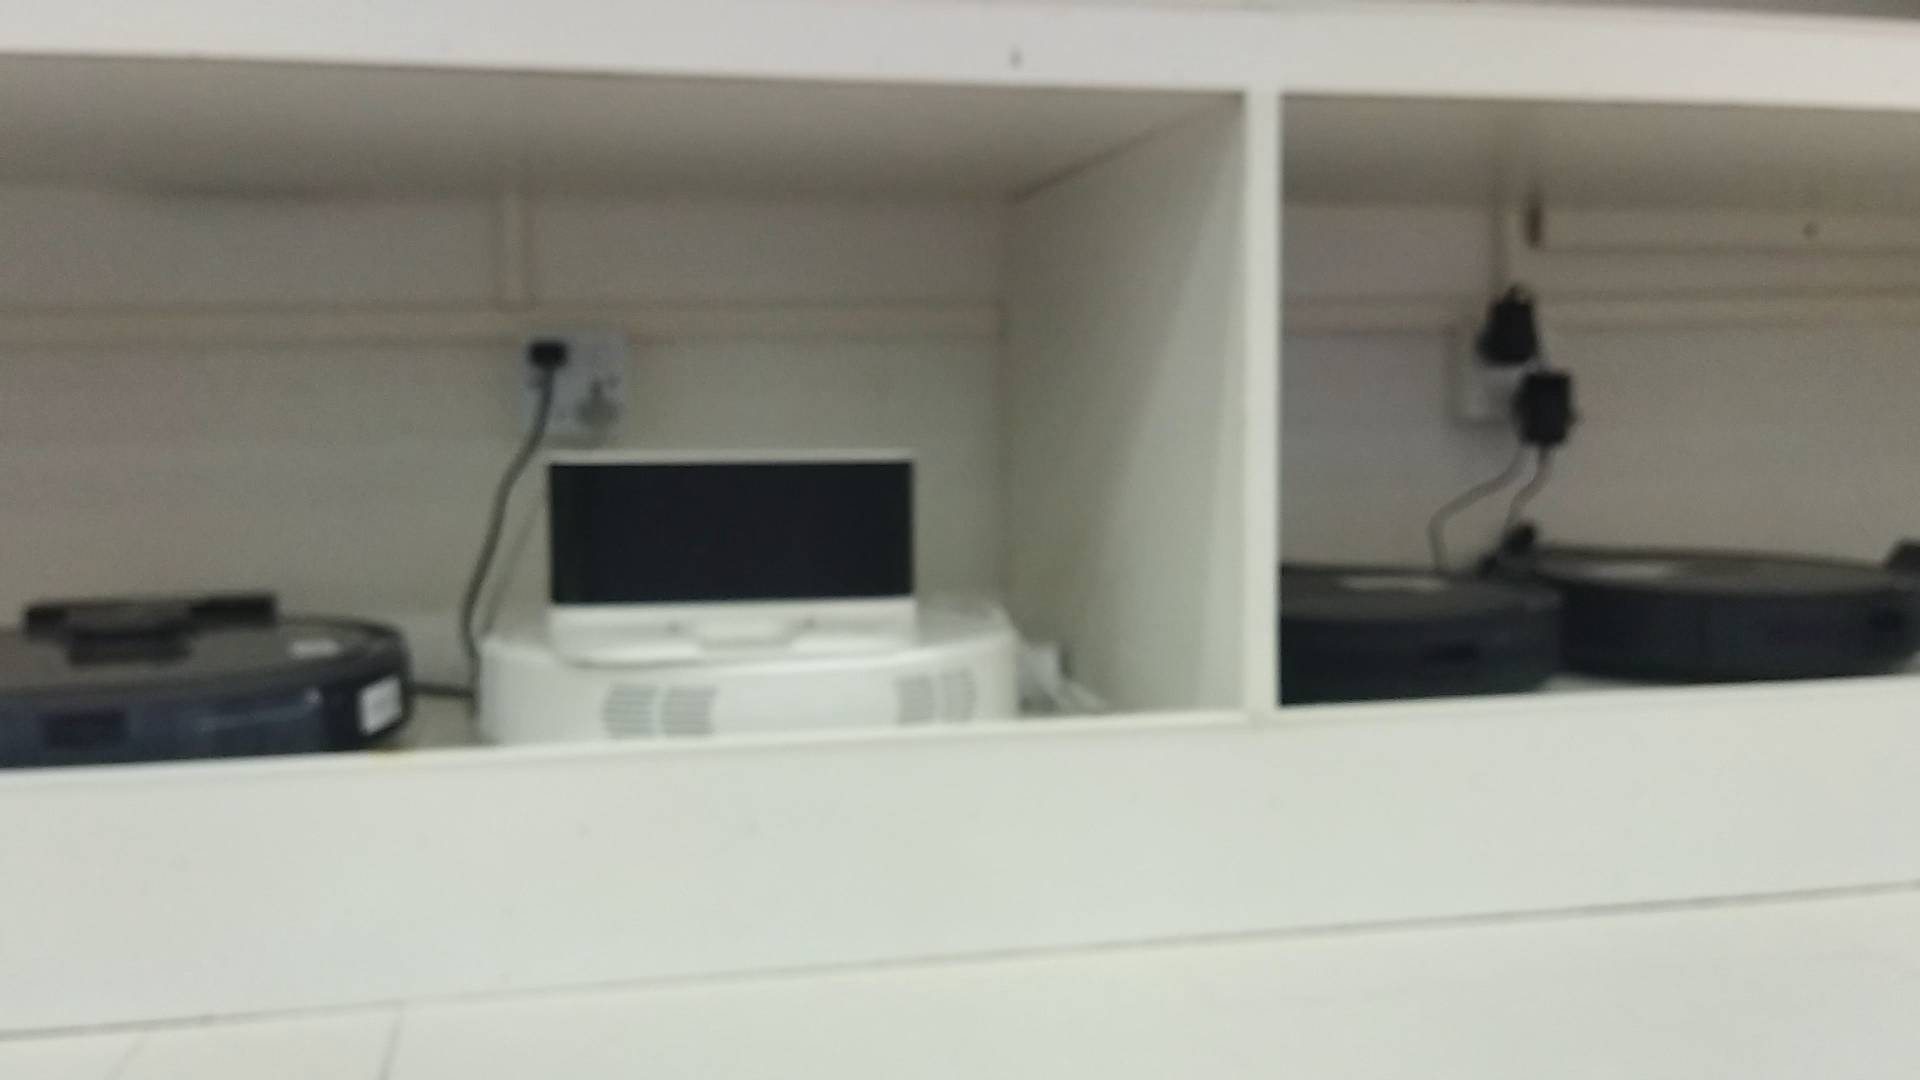recharge seat: (543, 444, 924, 663)
